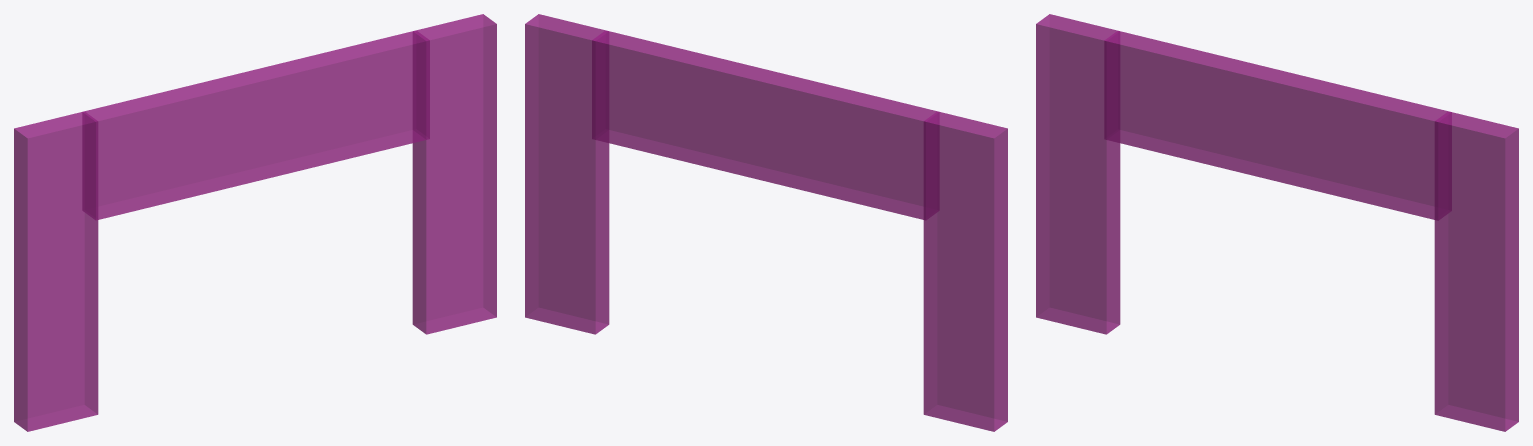
Rendered from SM_Bld_Wall_Door_Folding_01_Collision.fbx.
The picture shows the model from 3 angles, left to right: view 1: azimuth 30°, elevation 25°; view 2: azimuth 150°, elevation 25°; view 3: azimuth 330°, elevation 25°; orthographic projection.
Parts seen in each view (by area): view 1: SM_Bld_Wall_Door_Folding_01_Collision; view 2: SM_Bld_Wall_Door_Folding_01_Collision; view 3: SM_Bld_Wall_Door_Folding_01_Collision.
Boxes of the visible parts, x1=… form: SM_Bld_Wall_Door_Folding_01_Collision: x1=14, y1=14, x2=496, y2=431; SM_Bld_Wall_Door_Folding_01_Collision: x1=525, y1=14, x2=1007, y2=431; SM_Bld_Wall_Door_Folding_01_Collision: x1=1036, y1=14, x2=1518, y2=431.
Bounding box in the file's own units: 505 × 302 × 25.51.
